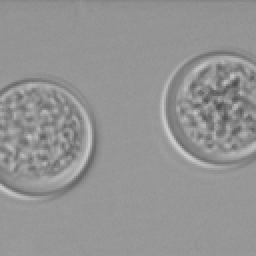picoshell: (0, 80, 92, 198), (164, 52, 254, 166)
